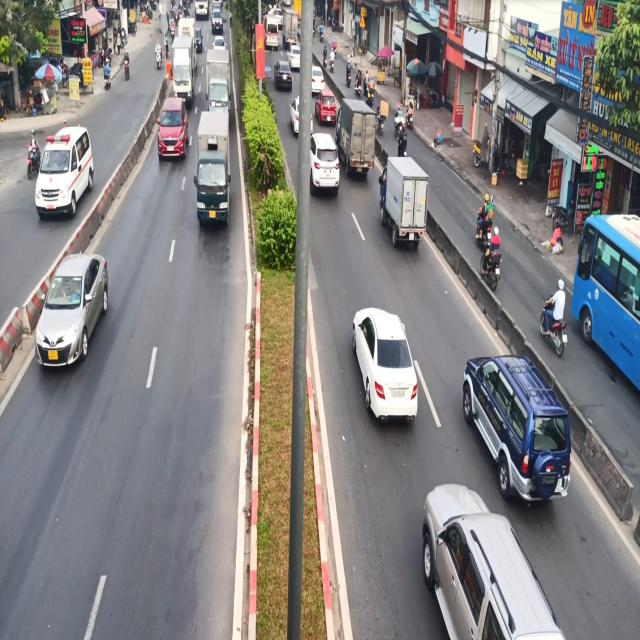car: (417, 484, 564, 640), (460, 345, 578, 510), (354, 295, 425, 439), (38, 242, 104, 385), (34, 117, 100, 218), (154, 88, 184, 160)
truck: (196, 104, 236, 240), (380, 150, 430, 256), (544, 271, 578, 355)
